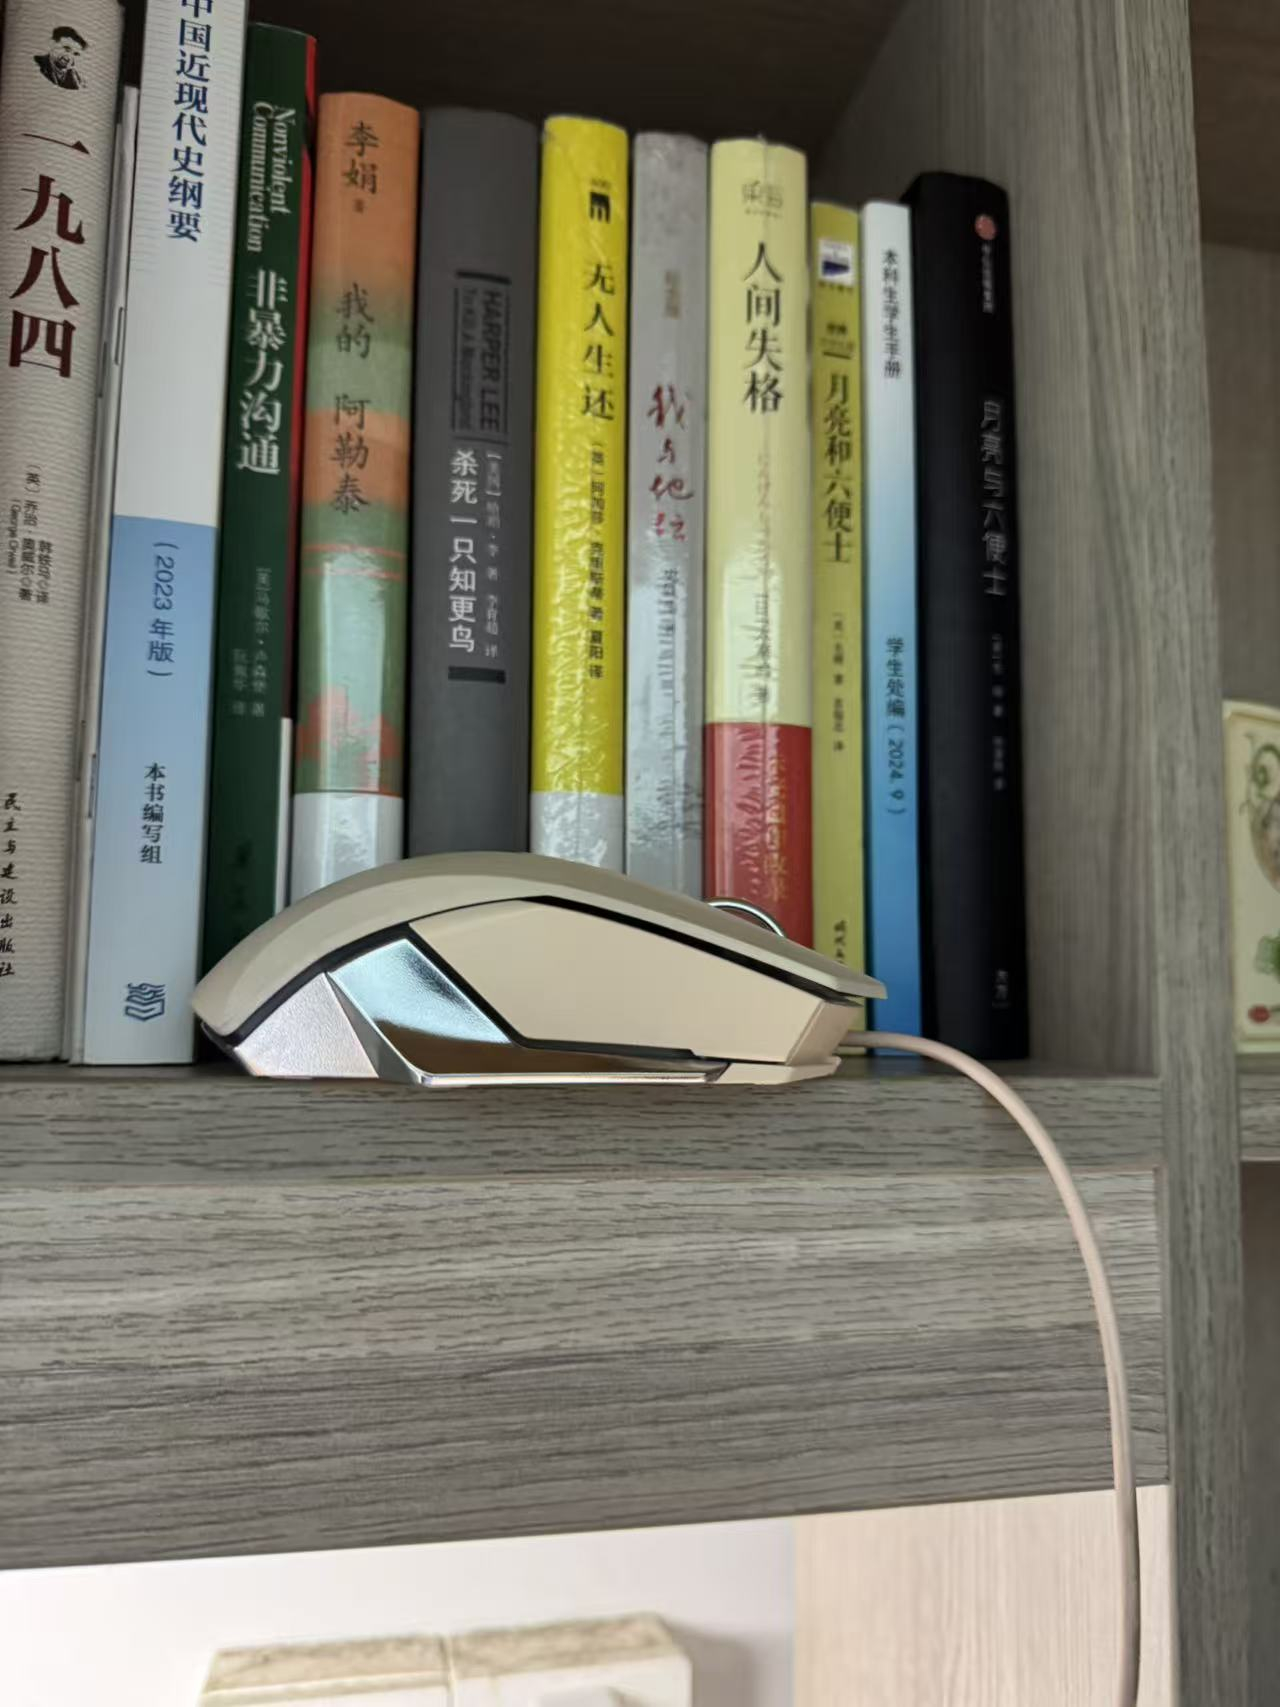mouse: (113, 801, 1068, 1098)
